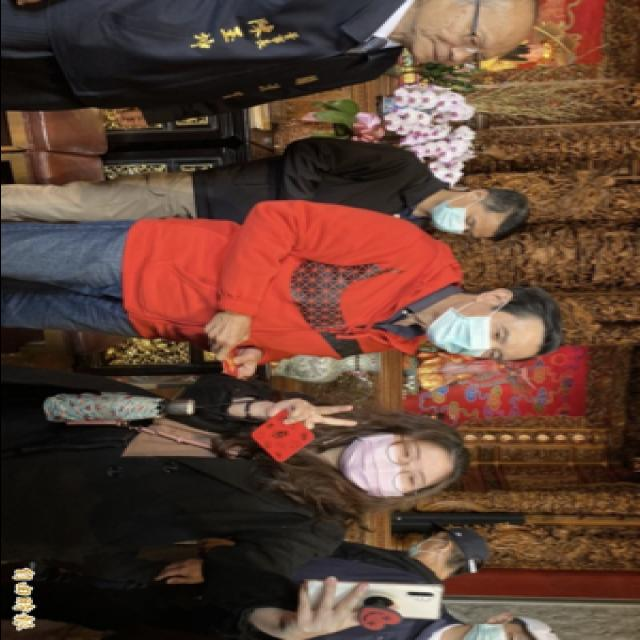with_mask: (339, 430, 433, 500), (428, 301, 514, 363), (428, 194, 486, 238), (465, 621, 523, 640), (408, 533, 446, 560)
without_mask: (410, 8, 498, 64)
